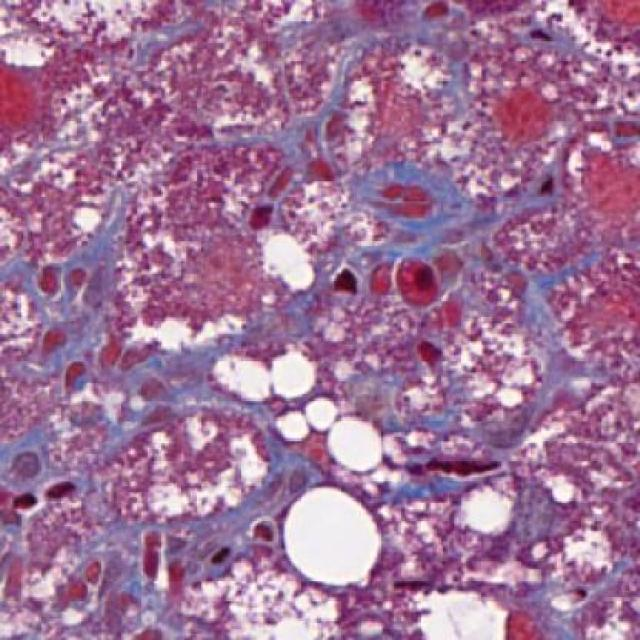steatosis: (285, 485, 386, 593)
